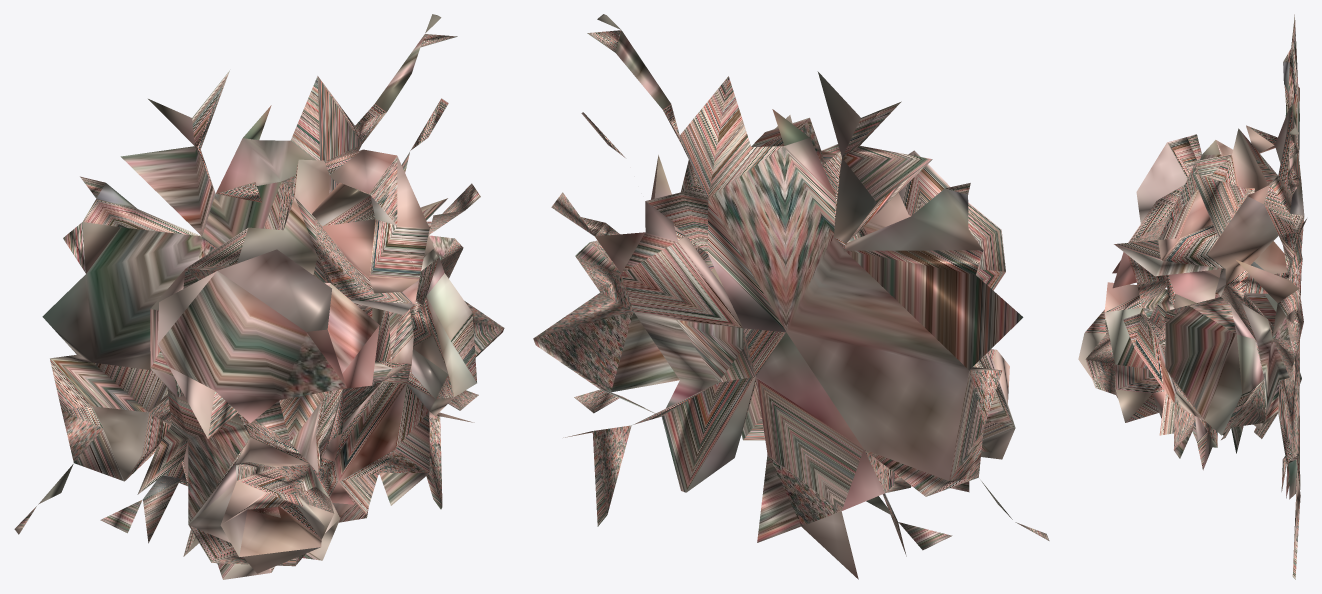
3 renders of one model, left to right at view 1: azimuth 30°, elevation 25°; view 2: azimuth 150°, elevation 25°; view 3: azimuth 270°, elevation 25°, orthographic. The views are drawn at different scales.
Parts seen in each view (by area): view 1: Rose-Bouquet-9-01; view 2: Rose-Bouquet-9-01; view 3: Rose-Bouquet-9-01.
Boxes of the visible parts, x1=… form: Rose-Bouquet-9-01: x1=14, y1=14, x2=504, y2=579; Rose-Bouquet-9-01: x1=533, y1=14, x2=1049, y2=579; Rose-Bouquet-9-01: x1=1078, y1=14, x2=1306, y2=579.
Size of the model in its own units: 0.313 by 0.301 by 0.1392.
Materials: 1 (1 with a texture image).
